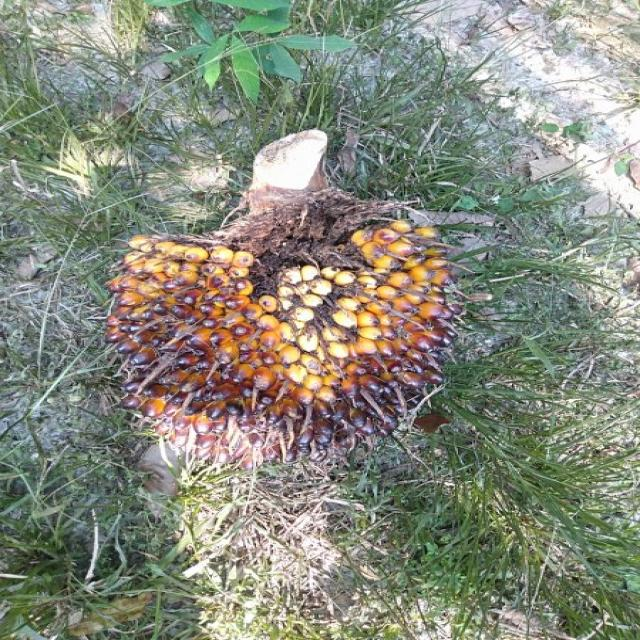fraksi 00: (98, 215, 463, 474)
